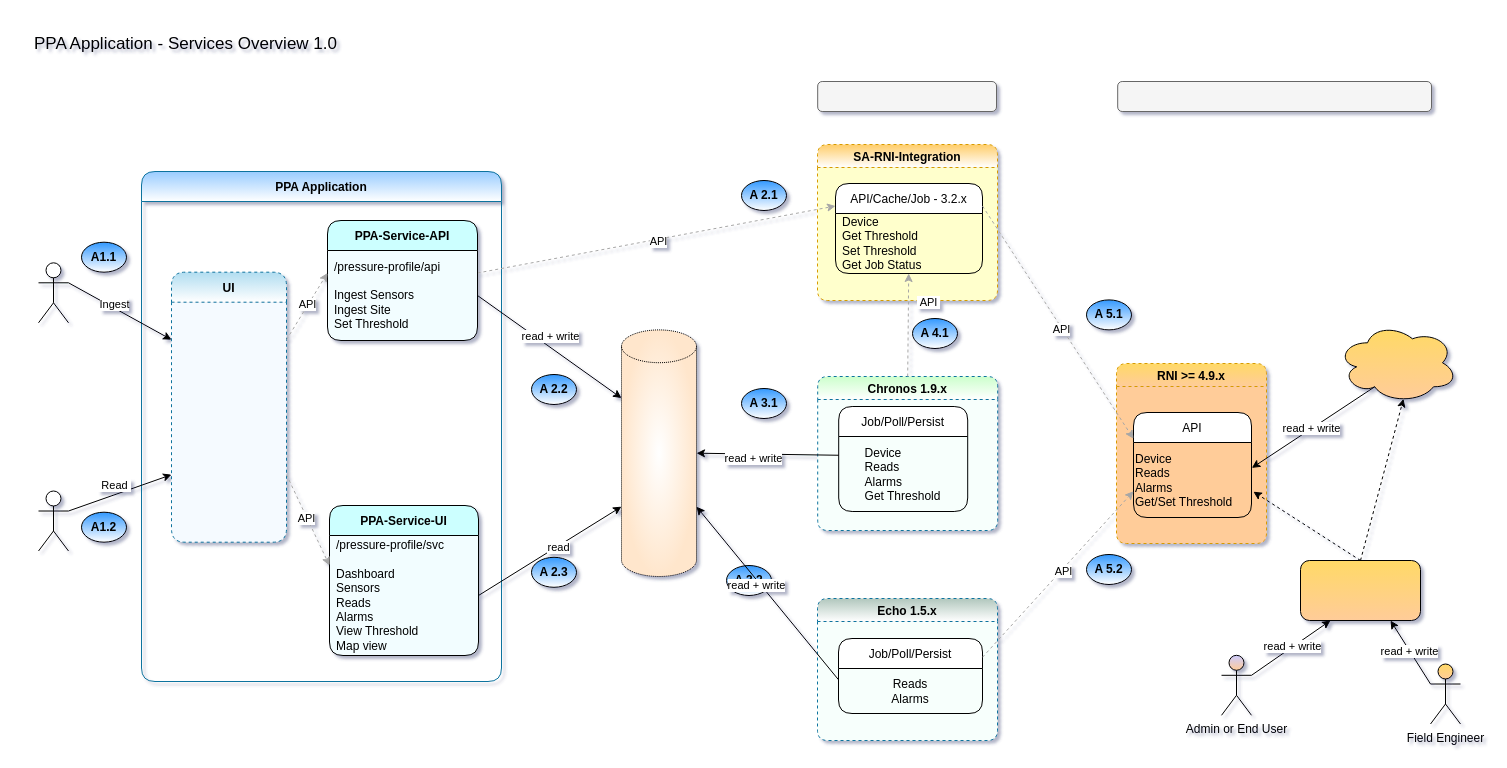
The diagram is 1507 pixels wide and 768 high, and some of its shapes have lost their labels. The shapes that lost their labels are listed below. From the top down, each one's centre as x and y in pixels, then its label:
At (906,96): "SA Services".
At (1274,96): "RNI / Rni-DM / Flexnet / Devices".
At (53,292): "PPA Admin User".
At (1397,362): "Devices / Sensors".
At (658,452): "Storage Mongo DB 4.4".
At (53,520): "PPA User".
At (1360,590): "Field Logic/Tools RNI Device Manager".
